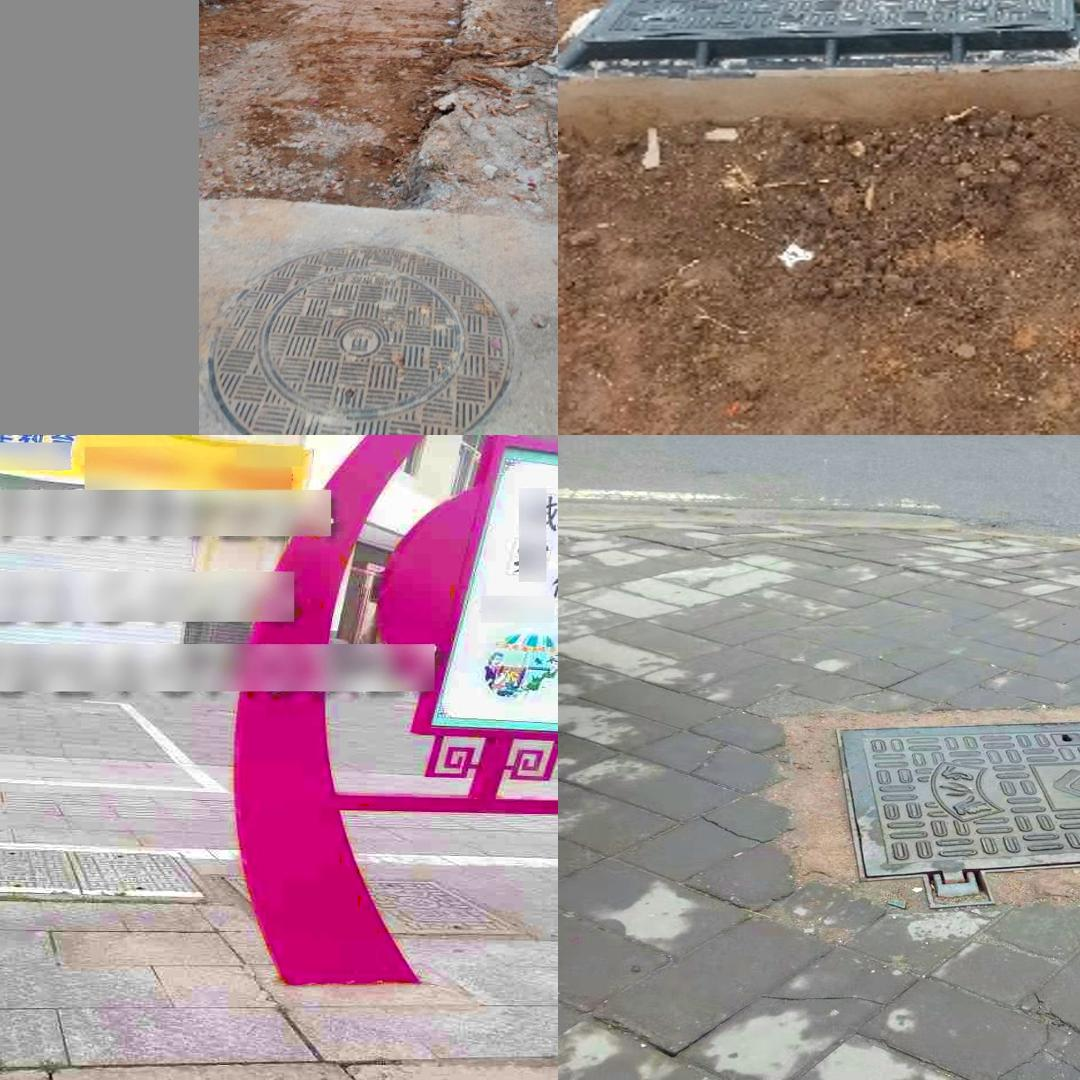good: (209, 236, 526, 435), (839, 711, 1080, 910), (572, 0, 1080, 43), (0, 841, 219, 902)
